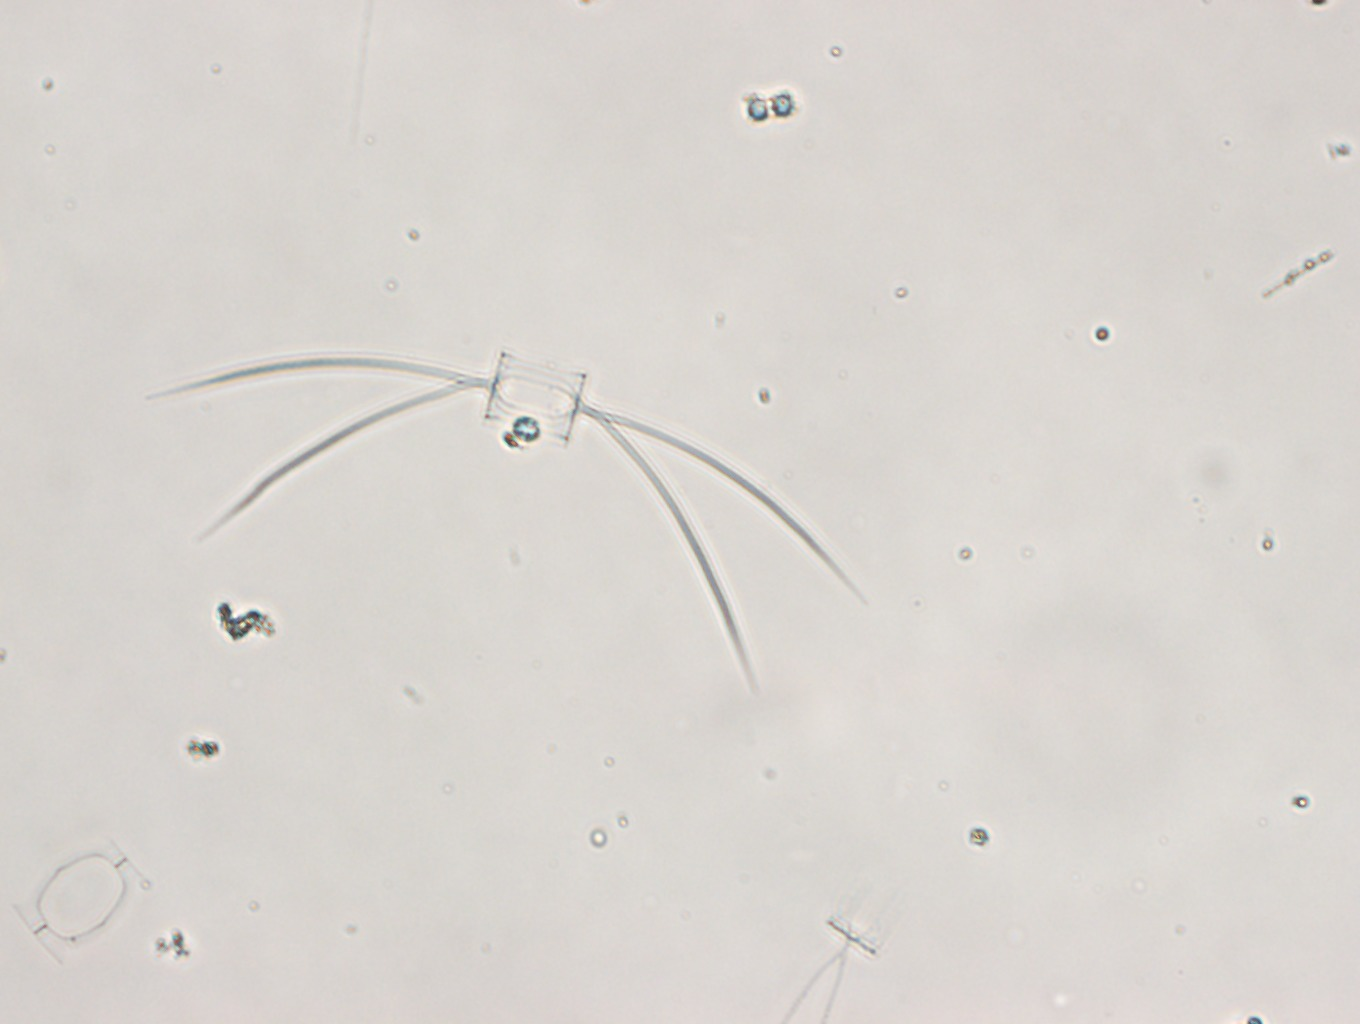chaetoceros: (143, 347, 870, 703)
